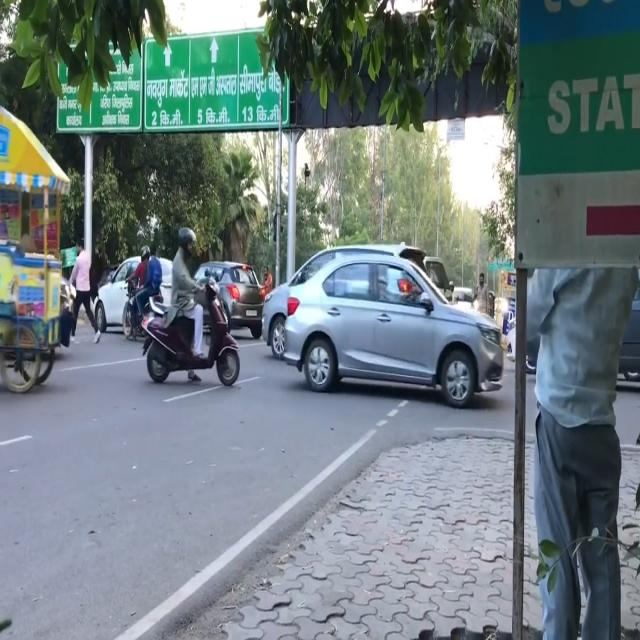Scooty: (136, 282, 251, 392)
